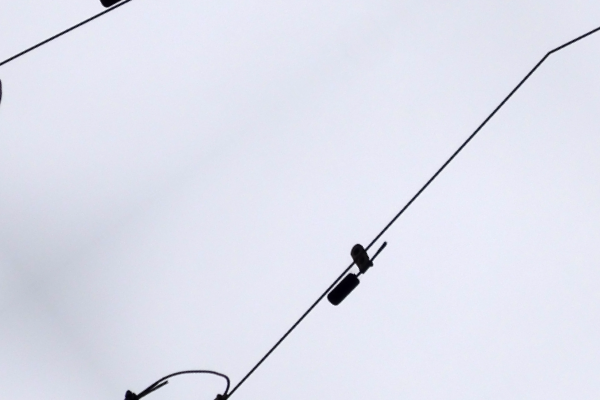damper_defect: (325, 238, 390, 308)
